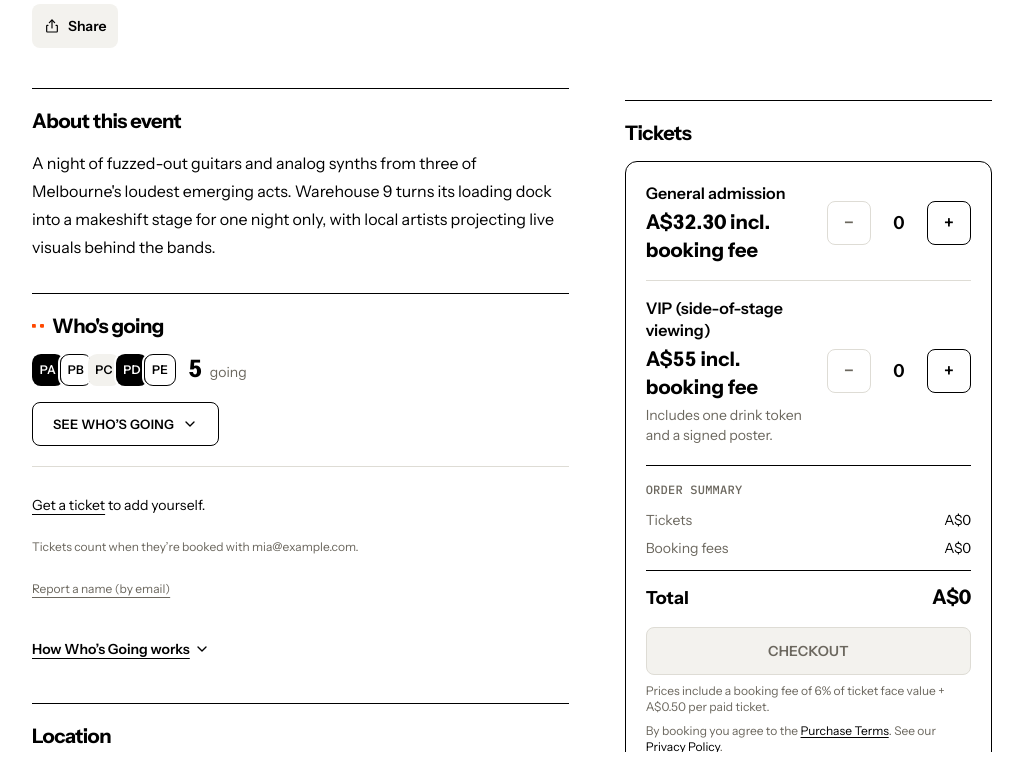
Test: Who's Going preview: collapsed by default › live, signed in: re-opening doesn't fetch again
(page scrolled)
Click the button "See who’s going": coordinates (126, 424) [32,402,219,446]
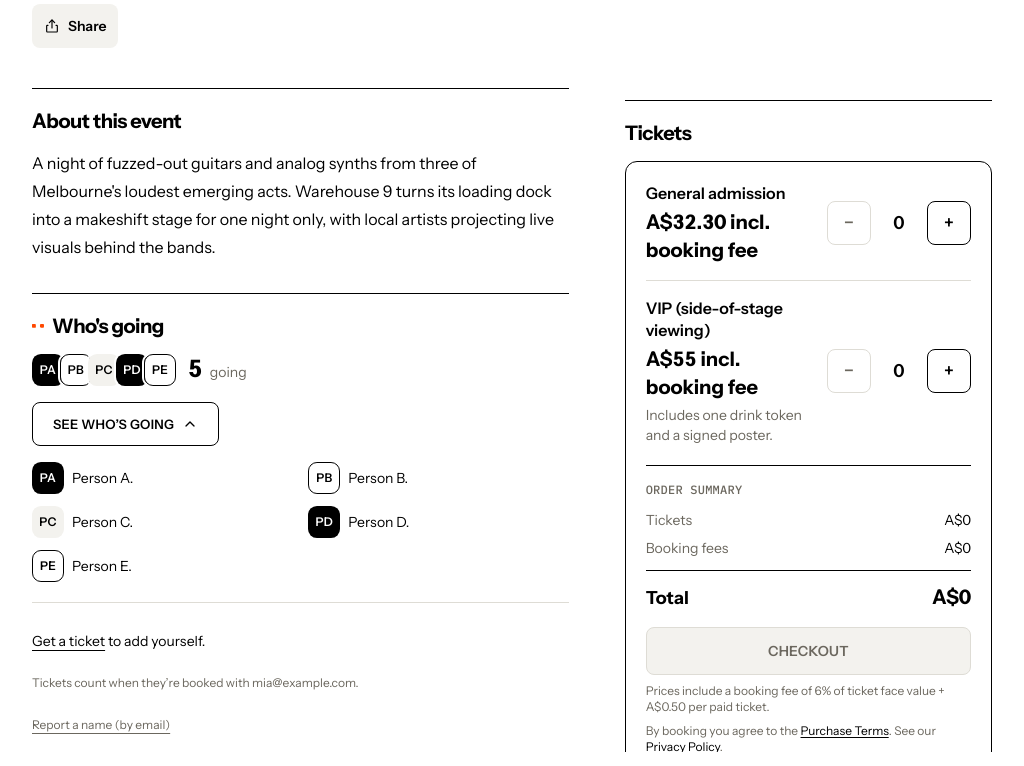
Click the button "See who’s going": coordinates (126, 424) [32,402,219,446]
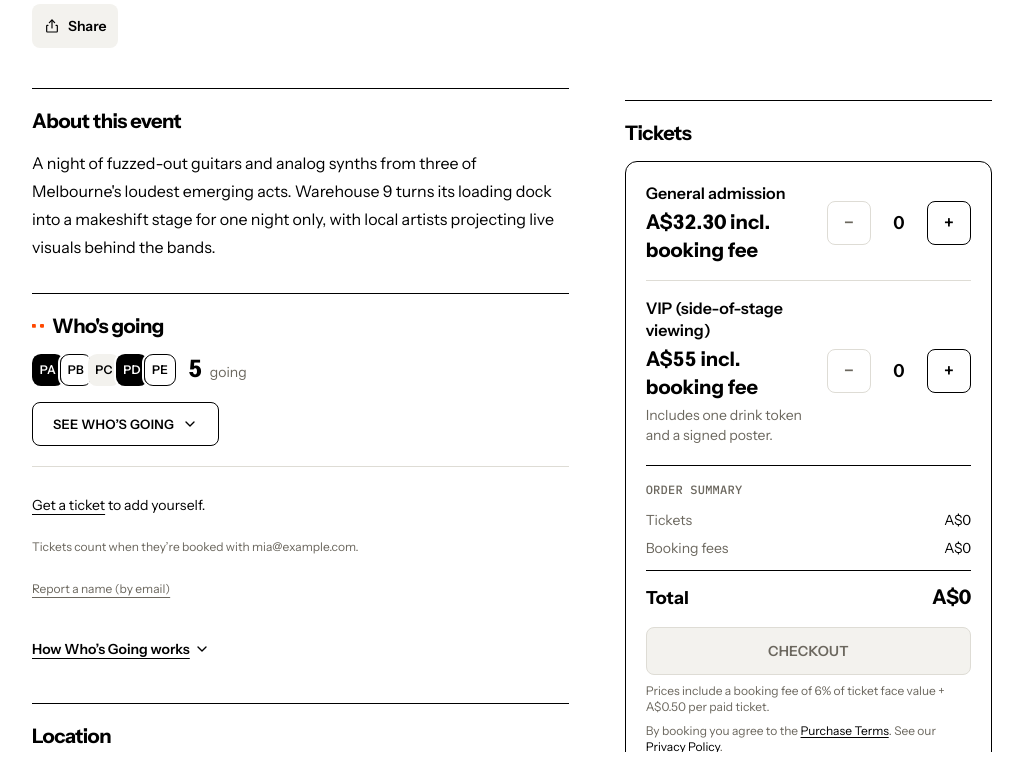
Click the button "See who’s going": coordinates (126, 424) [32,402,219,446]
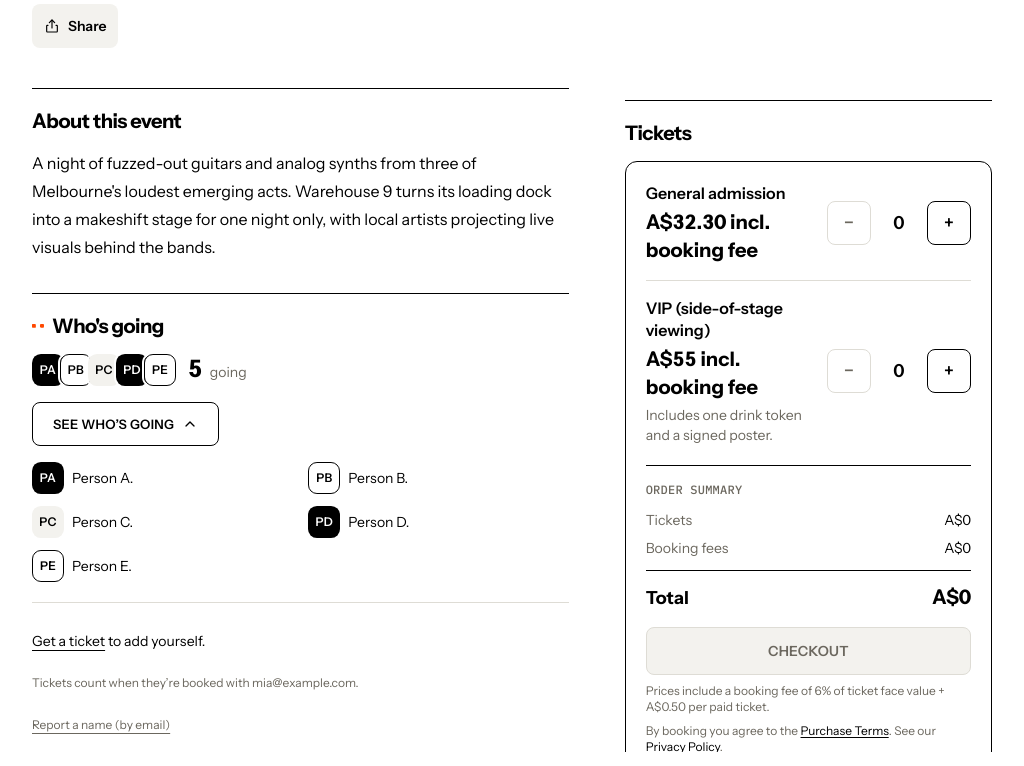
expect the list named "People going" is shown: met, box [32,462,409,582]
